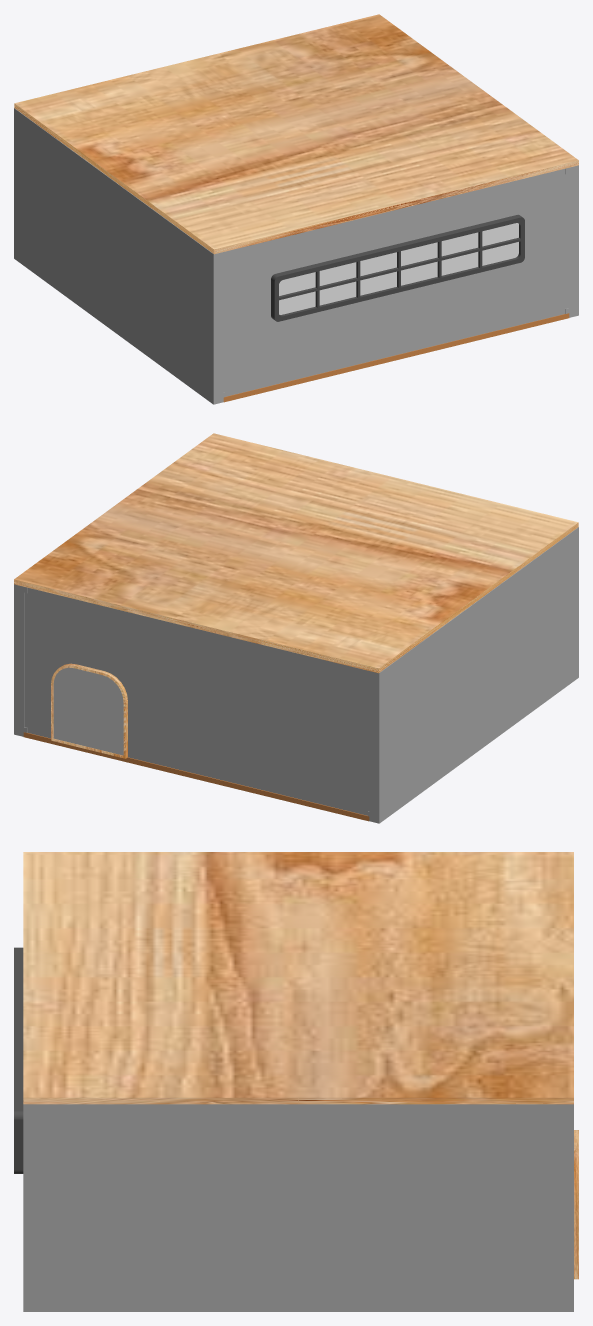
Rendered from Electronic Store.glb.
3 renders of one model, top to bottom at view 1: azimuth 30°, elevation 25°; view 2: azimuth 150°, elevation 25°; view 3: azimuth 270°, elevation 25°, orthographic. The views are drawn at different scales.
Parts seen in each view (by area): view 1: Roof, Wall.002, Wall, Window Glass, Window, Floor, Wall.001; view 2: Roof, Wall.003, Wall, Cube.017, Floor, Wall.001, Wood Door; view 3: Roof, Wall.001, Window, Wood Door.
Boxes of the visible parts, x1=… form: Roof: x1=14, y1=14, x2=578, y2=254; Wall.002: x1=223, y1=168, x2=568, y2=396; Wall: x1=14, y1=108, x2=224, y2=404; Window Glass: x1=279, y1=223, x2=518, y2=314; Window: x1=271, y1=214, x2=524, y2=321; Floor: x1=223, y1=313, x2=569, y2=402; Wall.001: x1=565, y1=165, x2=578, y2=317; Roof: x1=14, y1=433, x2=578, y2=673; Wall.003: x1=24, y1=587, x2=369, y2=815; Wall: x1=368, y1=527, x2=578, y2=823; Cube.017: x1=53, y1=667, x2=123, y2=755; Floor: x1=23, y1=732, x2=369, y2=821; Wall.001: x1=14, y1=584, x2=27, y2=736; Wood Door: x1=51, y1=663, x2=127, y2=758; Roof: x1=23, y1=852, x2=573, y2=1104; Wall.001: x1=23, y1=1104, x2=573, y2=1311; Window: x1=14, y1=947, x2=23, y2=1173; Wood Door: x1=574, y1=1130, x2=578, y2=1279.
Bounding box in the file's own units: 73.98 × 30.07 × 71.81.
Materials: 9 (2 with a texture image).
